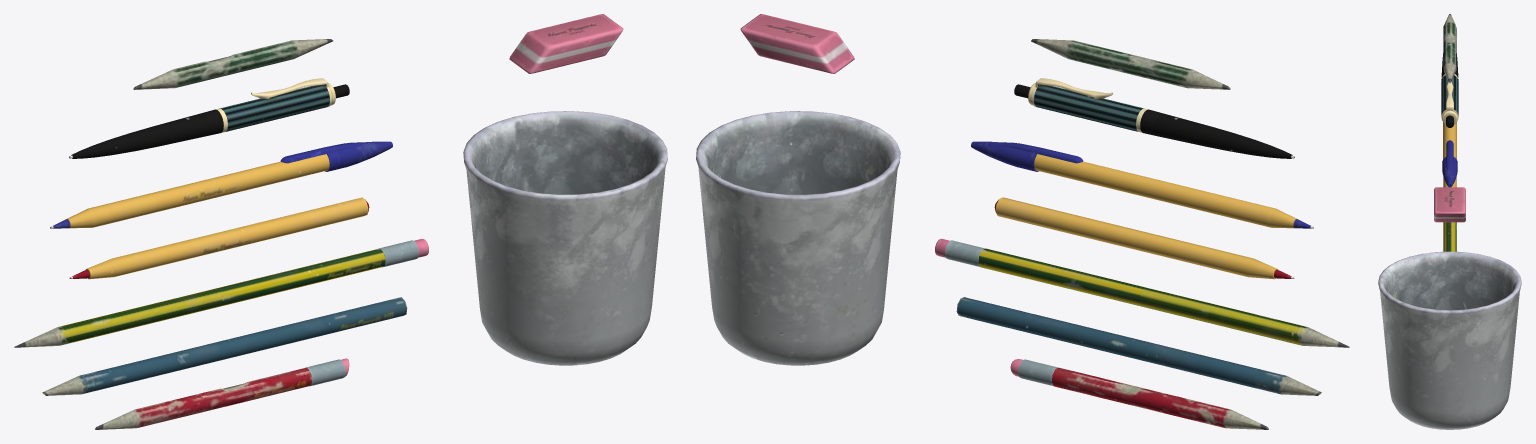
The model's file is stationery_supplies.glb.
3 views of the same model, side by side, from view 1: azimuth 30°, elevation 25°; view 2: azimuth 150°, elevation 25°; view 3: azimuth 270°, elevation 25° (orthographic). The views are drawn at different scales.
Parts seen in each view (by area): view 1: stationery_supplies_pen_red; view 2: stationery_supplies_pen_red; view 3: stationery_supplies_pen_red.
Part boxes in pixels (x1,y1,x2,y2): stationery_supplies_pen_red: (14, 14, 667, 429); stationery_supplies_pen_red: (696, 14, 1349, 429); stationery_supplies_pen_red: (1378, 14, 1521, 429).
Bounding box in the file's own units: 0.3019 × 0.1644 × 0.0837.
Materials: 1 (1 with a texture image).
